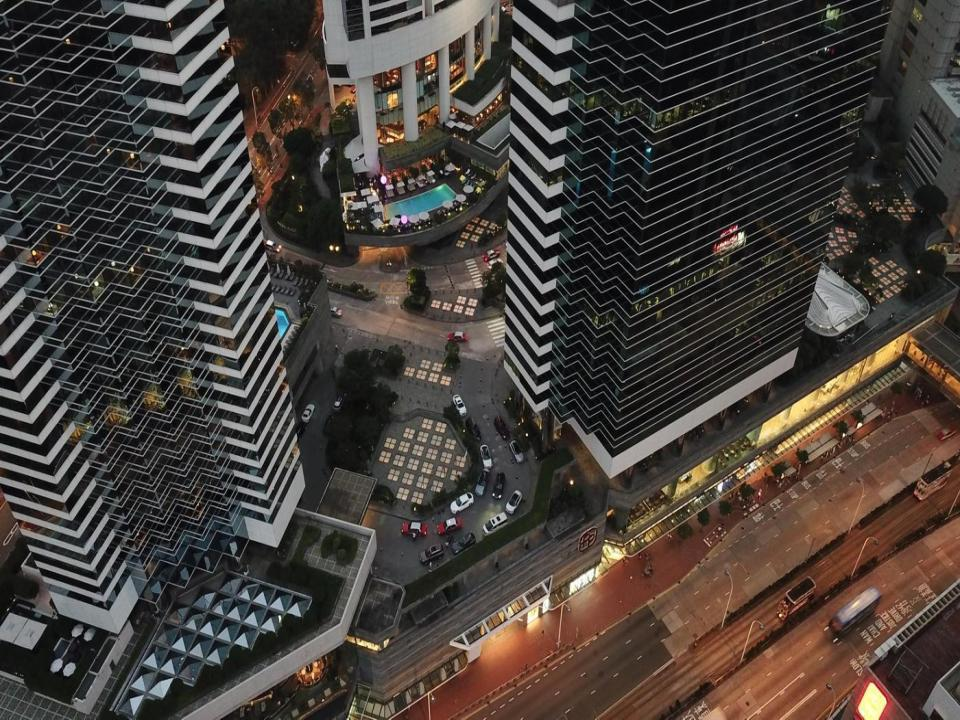bus: (828, 586, 882, 638), (777, 576, 816, 620), (914, 461, 953, 502)
car: (449, 492, 474, 513), (438, 517, 462, 534), (402, 521, 427, 535), (937, 426, 958, 441), (492, 472, 504, 497), (292, 422, 307, 441), (332, 391, 346, 410), (447, 330, 469, 342), (454, 394, 466, 416), (510, 442, 523, 462), (482, 248, 500, 262), (322, 416, 336, 434), (263, 240, 281, 253), (302, 404, 314, 422), (487, 256, 503, 268), (506, 240, 527, 248), (327, 305, 342, 316)
van: (482, 512, 508, 534), (452, 532, 475, 554), (419, 544, 444, 563), (474, 470, 490, 497), (505, 489, 522, 514), (494, 416, 511, 440), (465, 416, 481, 441), (480, 445, 492, 469)
